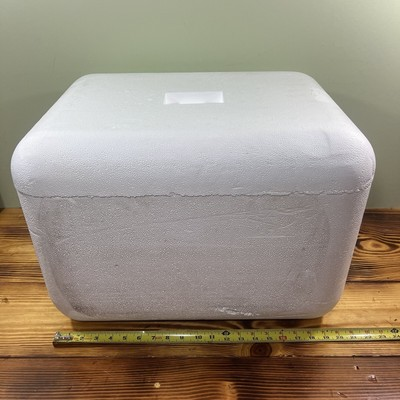泡沫箱: (12, 72, 374, 320)
